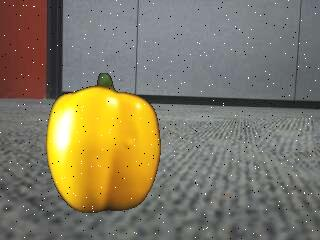Capsicum: (48, 73, 163, 214)
